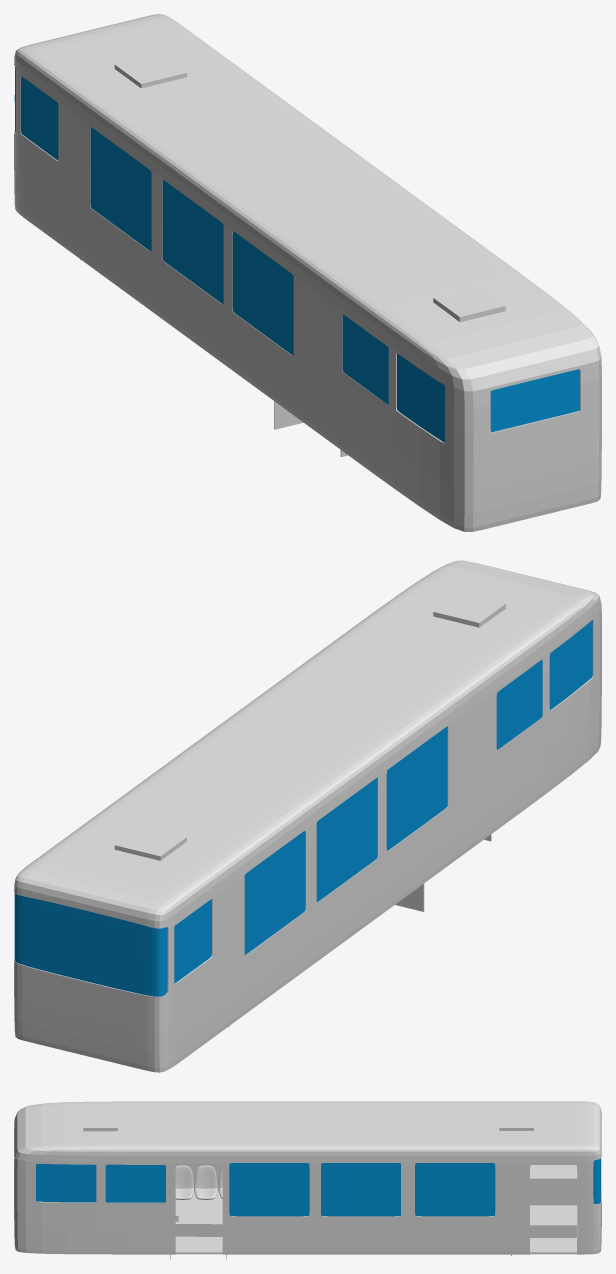
The model's file is bus whitebox4 _exp.fbx.
3 renders of one model, top to bottom at view 1: azimuth 30°, elevation 25°; view 2: azimuth 150°, elevation 25°; view 3: azimuth 270°, elevation 25°, orthographic. The views are drawn at different scales.
Parts seen in each view (by area): view 1: bus shell main, glass.002, glass.001, glass, glass.005, glass.004, glass.003, glass.006, Cube.011, Cube.012; view 2: bus shell main, glass.008, glass.002, glass.001, glass, glass.003, glass.004, glass.006, Cube.011, Cube.012; view 3: bus shell main, bus shell.001, glass, glass.002, glass.001, glass.004, glass.003, Cube.001, seat1.017, Cube.011, Cube.012, seat1.016 (+1 smaller).
Part boxes in pixels (x1=…): bus shell main: x1=14, y1=14, x2=601, y2=531; glass.002: x1=90, y1=127, x2=151, y2=251; glass.001: x1=162, y1=180, x2=223, y2=304; glass: x1=232, y1=231, x2=293, y2=355; glass.005: x1=490, y1=369, x2=579, y2=432; glass.004: x1=397, y1=353, x2=444, y2=442; glass.003: x1=342, y1=314, x2=388, y2=404; glass.006: x1=21, y1=76, x2=58, y2=160; Cube.011: x1=433, y1=286, x2=505, y2=322; Cube.012: x1=114, y1=53, x2=187, y2=88; bus shell main: x1=14, y1=560, x2=601, y2=1072; glass.008: x1=14, y1=893, x2=166, y2=996; glass.002: x1=244, y1=831, x2=305, y2=954; glass.001: x1=316, y1=778, x2=377, y2=902; glass: x1=386, y1=726, x2=447, y2=850; glass.003: x1=496, y1=660, x2=542, y2=749; glass.004: x1=549, y1=620, x2=592, y2=710; glass.006: x1=174, y1=899, x2=211, y2=983; Cube.011: x1=433, y1=592, x2=505, y2=627; Cube.012: x1=114, y1=826, x2=186, y2=860; bus shell main: x1=14, y1=1101, x2=601, y2=1254; bus shell.001: x1=175, y1=1191, x2=577, y2=1254; glass: x1=229, y1=1163, x2=309, y2=1216; glass.002: x1=415, y1=1163, x2=495, y2=1216; glass.001: x1=321, y1=1163, x2=400, y2=1216; glass.004: x1=36, y1=1164, x2=96, y2=1202; glass.003: x1=105, y1=1164, x2=165, y2=1202; Cube.001: x1=530, y1=1165, x2=577, y2=1205; seat1.017: x1=194, y1=1165, x2=217, y2=1199; Cube.011: x1=83, y1=1113, x2=117, y2=1131; Cube.012: x1=499, y1=1113, x2=533, y2=1130; seat1.016: x1=175, y1=1165, x2=193, y2=1199.
Size of the model in its own units: 276 by 338 by 1396.
